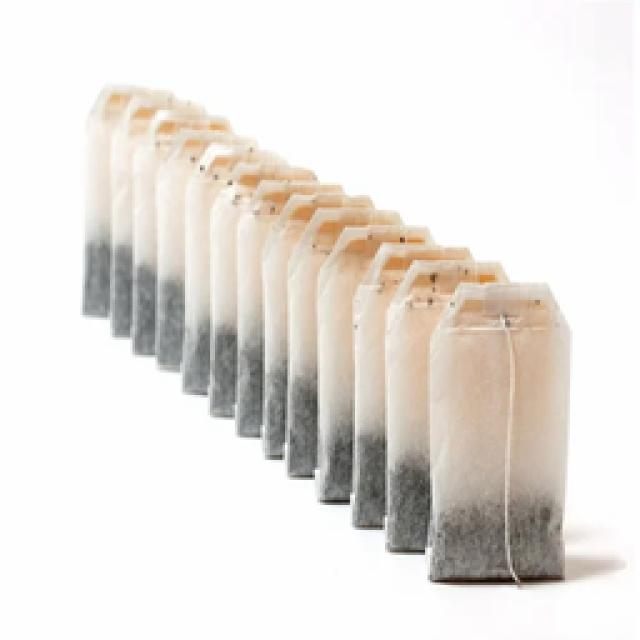tea-bags: (82, 85, 568, 578)
